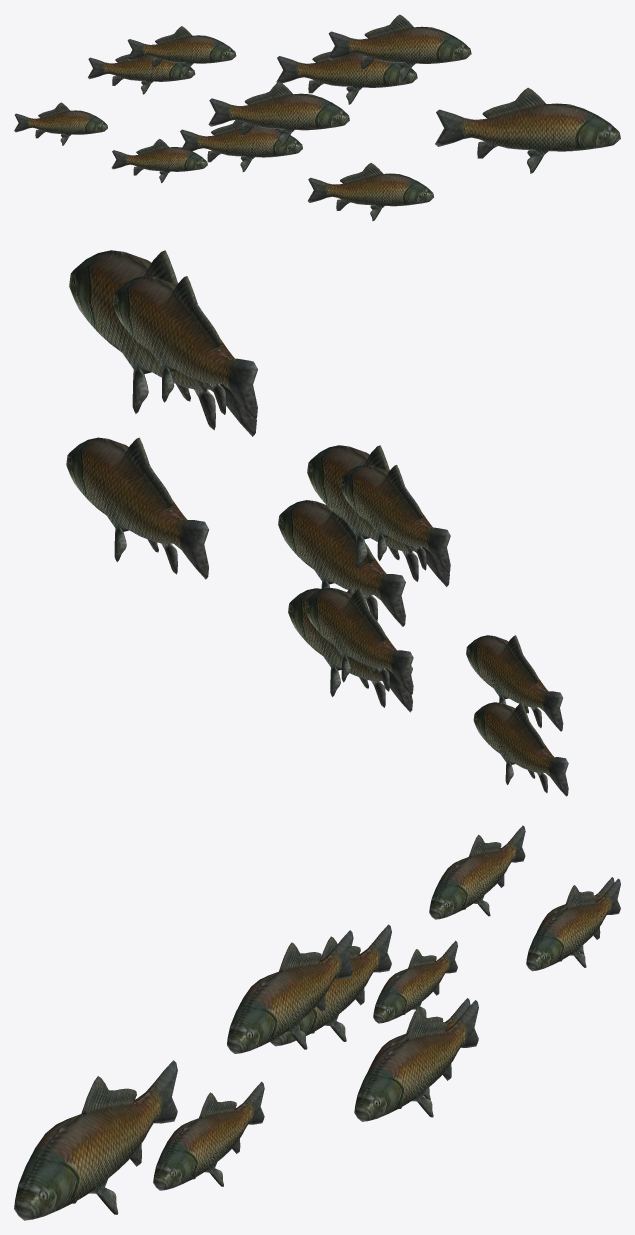
File: school_of_fish_optimised.glb
3 views of the same model, one above another, from view 1: azimuth 30°, elevation 25°; view 2: azimuth 150°, elevation 25°; view 3: azimuth 270°, elevation 25° (orthographic). The views are drawn at different scales.
Parts seen in each view (by area): view 1: fish_0_1_2; view 2: fish_0_1_2; view 3: fish_0_1_2.
Boxes of the visible parts, x1,y1,x2,y2 form: fish_0_1_2: [14, 14, 620, 220]; fish_0_1_2: [66, 250, 568, 796]; fish_0_1_2: [14, 825, 620, 1220].
Bounding box in the file's own units: 6.3 × 2.42 × 4.71.
Materials: 1 (1 with a texture image).
